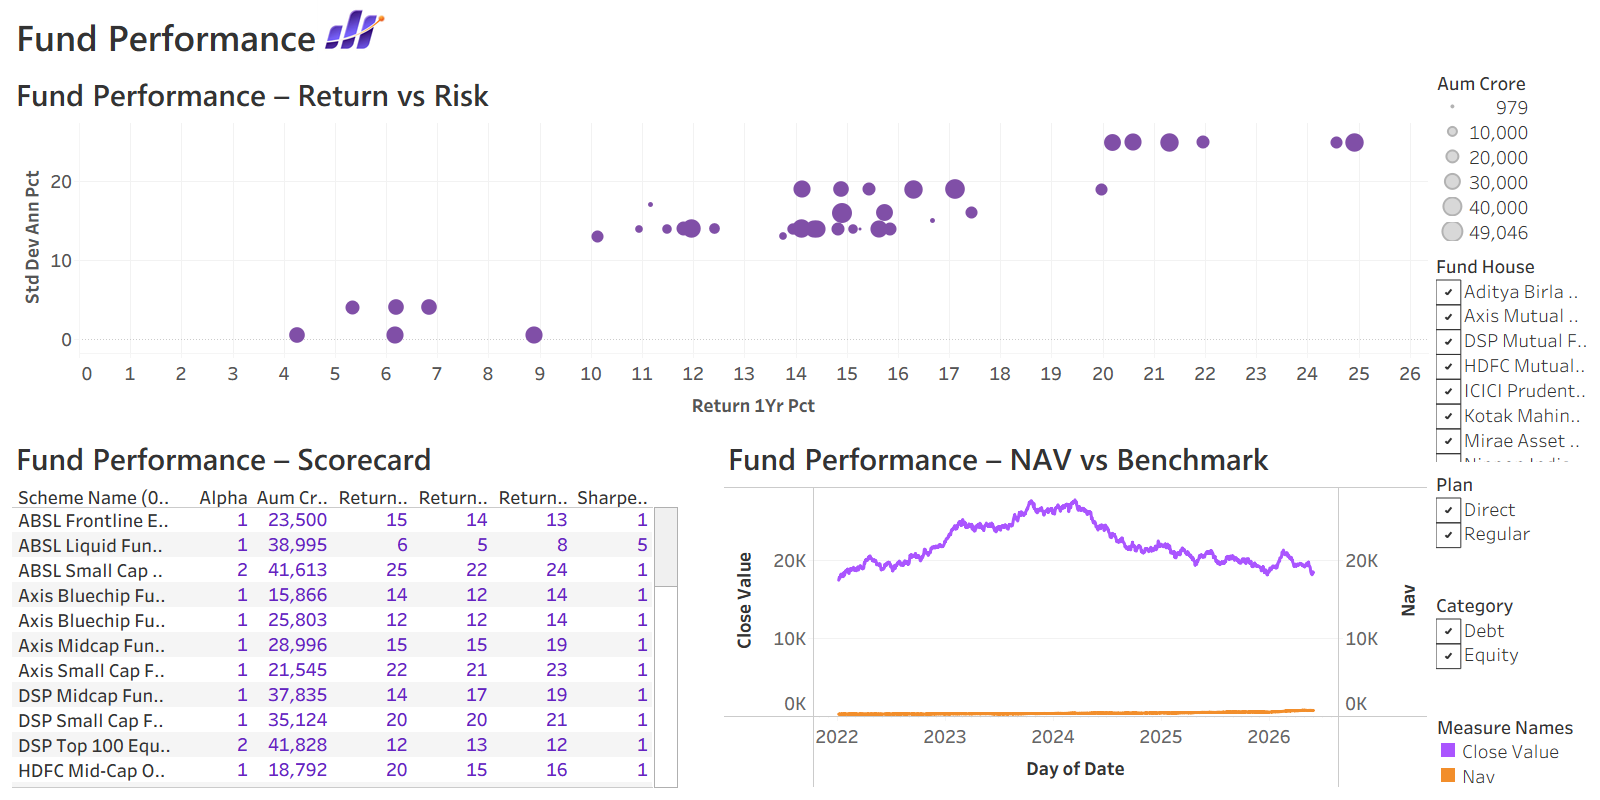

The dashboard page shown, as its layout file describes it:
{"tool":"tableau","page":{"name":"Fund Performance","canvas":[1600,800],"ordinal":0},"visuals":[{"type":"title","box":[8,8,1584,56]},{"type":"worksheet","title":"Fund Performance – Return vs Risk","mark":"Circle","rows":["std_dev_ann_pct"],"cols":["return_1yr_pct"],"box":[8,64,1424,364]},{"type":"legend","title":"Fund Performance – Return vs Risk","param":"[federated.0onc4mv15nq22e12pxpsy1dv15kl].[sum:aum_crore:qk]","box":[1432,64,160,184]},{"type":"filter","title":"Fund Performance – Scorecard","param":"[federated.0onc4mv15nq22e12pxpsy1dv15kl].[none:fund_house:nk]","box":[1432,248,160,218]},{"type":"worksheet","title":"Fund Performance – Scorecard","mark":"Automatic","rows":["scheme_name (07_scheme_performance.csv)"],"box":[8,428,712,364]},{"type":"worksheet","title":"Fund Performance – NAV vs Benchmark","mark":"Line","rows":["close_value","nav"],"cols":["date"],"box":[720,428,712,364]},{"type":"filter","title":"Fund Performance – Scorecard","param":"[federated.0onc4mv15nq22e12pxpsy1dv15kl].[none:plan:nk]","box":[1432,466,160,121]},{"type":"filter","title":"Fund Performance – Scorecard","param":"[federated.0onc4mv15nq22e12pxpsy1dv15kl].[none:category:nk]","box":[1432,587,160,121]},{"type":"legend","title":"Fund Performance – NAV vs Benchmark","param":"[federated.0onc4mv15nq22e12pxpsy1dv15kl].[:Measure Names]","box":[1432,708,160,84]}]}

Visuals, with their boxes in screenshot pixels (x1, y1, x2, y2), scaled from the page's 1600x800 canvas onto the 1600x800 screenshot:
title: detection(8, 8, 1592, 64)
"Fund Performance – Return vs Risk" worksheet (Circle marks): detection(8, 64, 1432, 428)
"Fund Performance – Return vs Risk" legend: detection(1432, 64, 1592, 248)
"Fund Performance – Scorecard" filter: detection(1432, 248, 1592, 466)
"Fund Performance – Scorecard" worksheet: detection(8, 428, 720, 792)
"Fund Performance – NAV vs Benchmark" worksheet (Line marks): detection(720, 428, 1432, 792)
"Fund Performance – Scorecard" filter: detection(1432, 466, 1592, 587)
"Fund Performance – Scorecard" filter: detection(1432, 587, 1592, 708)
"Fund Performance – NAV vs Benchmark" legend: detection(1432, 708, 1592, 792)
